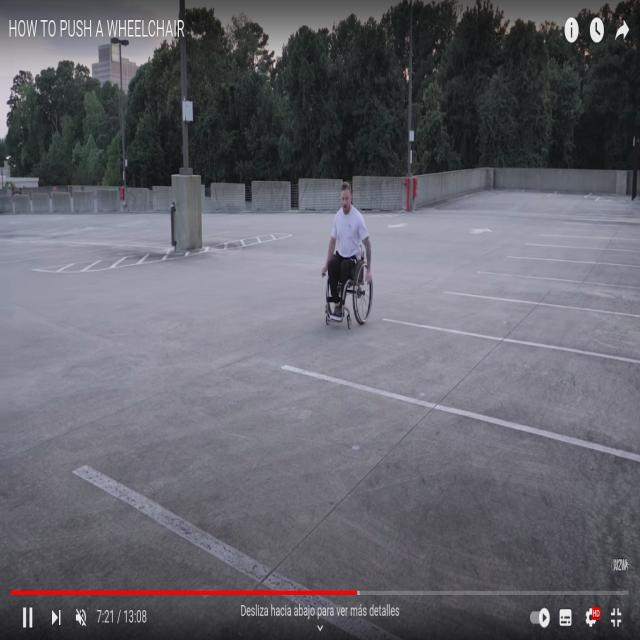wheelchairs: (316, 245, 373, 330)
